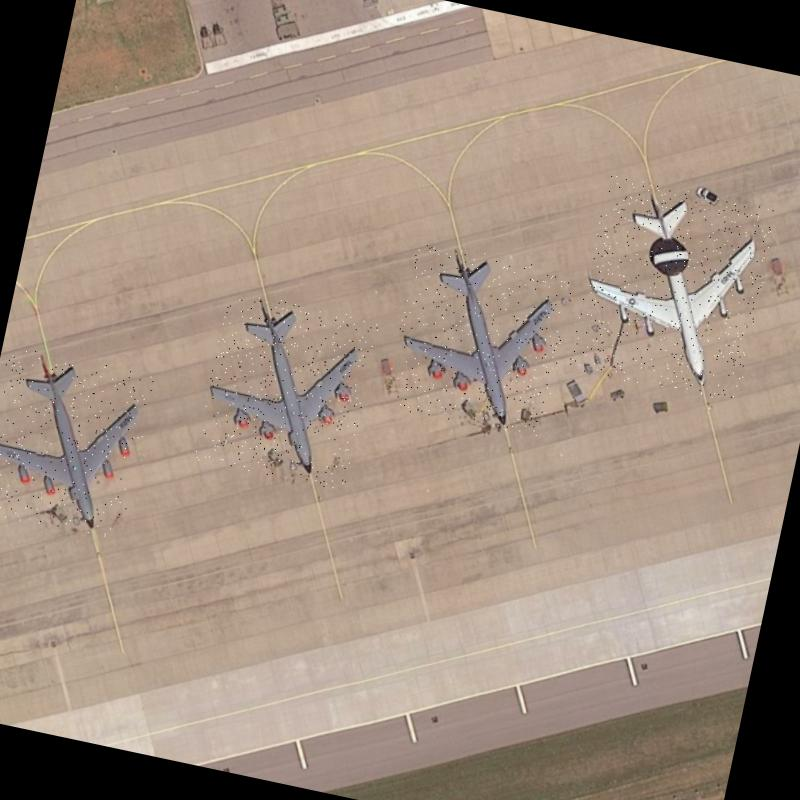A14: (382, 239, 576, 440), (193, 289, 380, 491), (0, 345, 155, 542)
A7: (568, 174, 779, 406)
